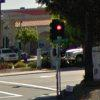Traffic light: (44, 15, 69, 57)
